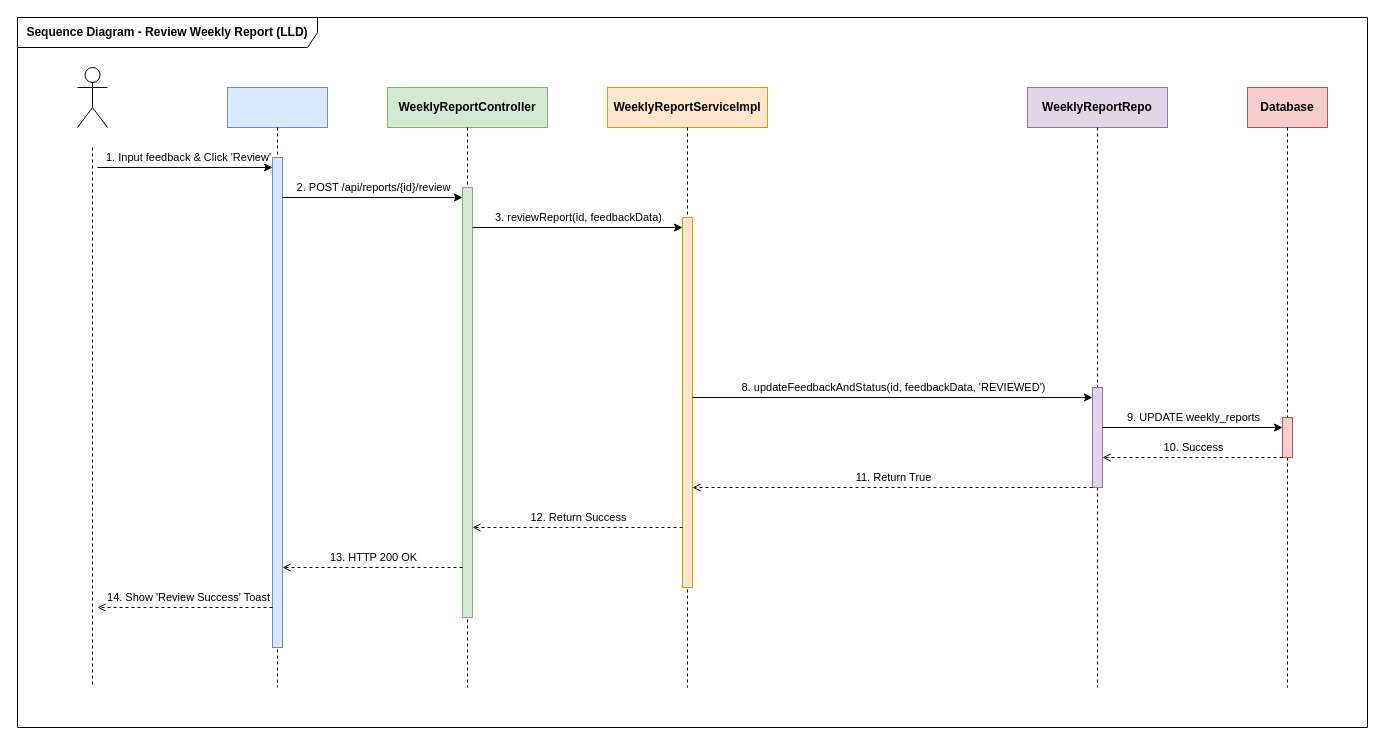
Image size: 1385x745. Some labels were removed from this diagram. Here are the shapes that lost their labels. From the top down, the box of each, then its label:
(76, 66, 108, 128): Mentor / HR
(226, 86, 328, 128): Frontend UI
